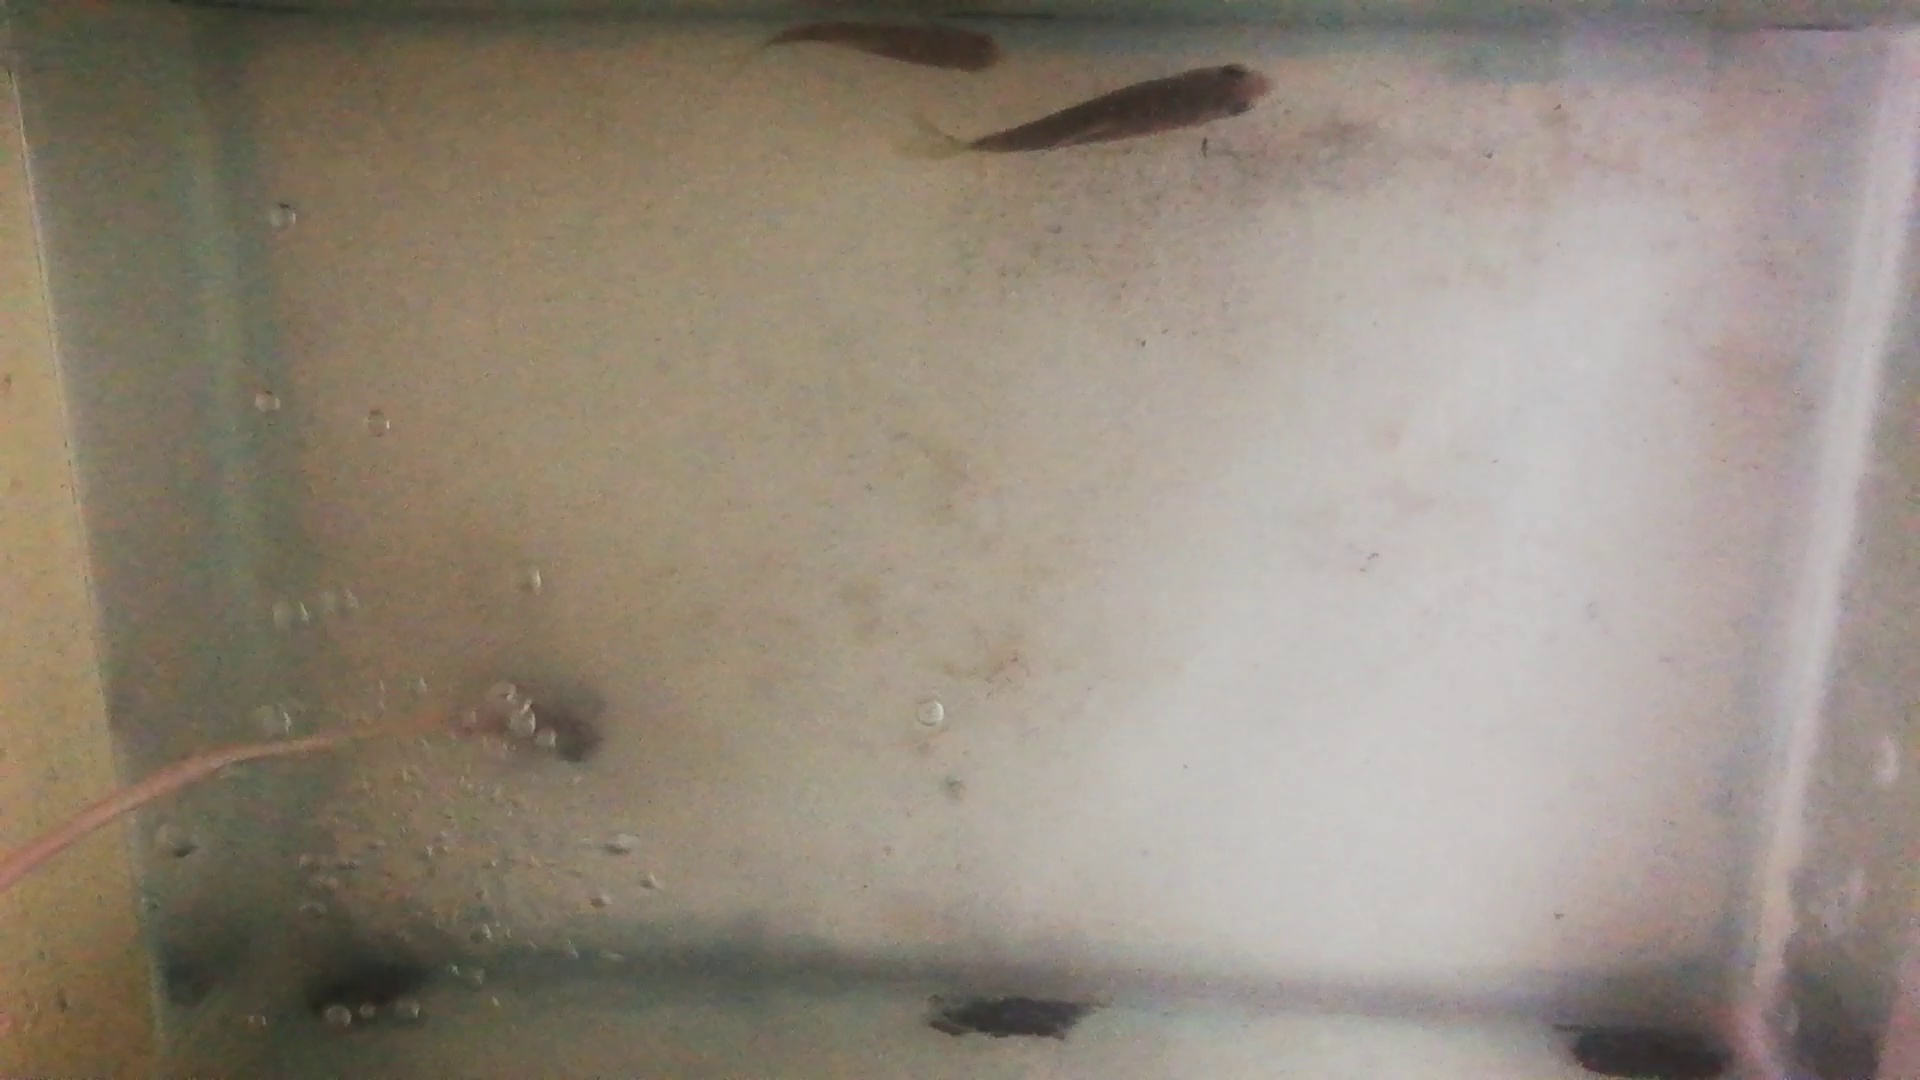fish: (963, 62, 1280, 158), (764, 18, 1004, 73)
